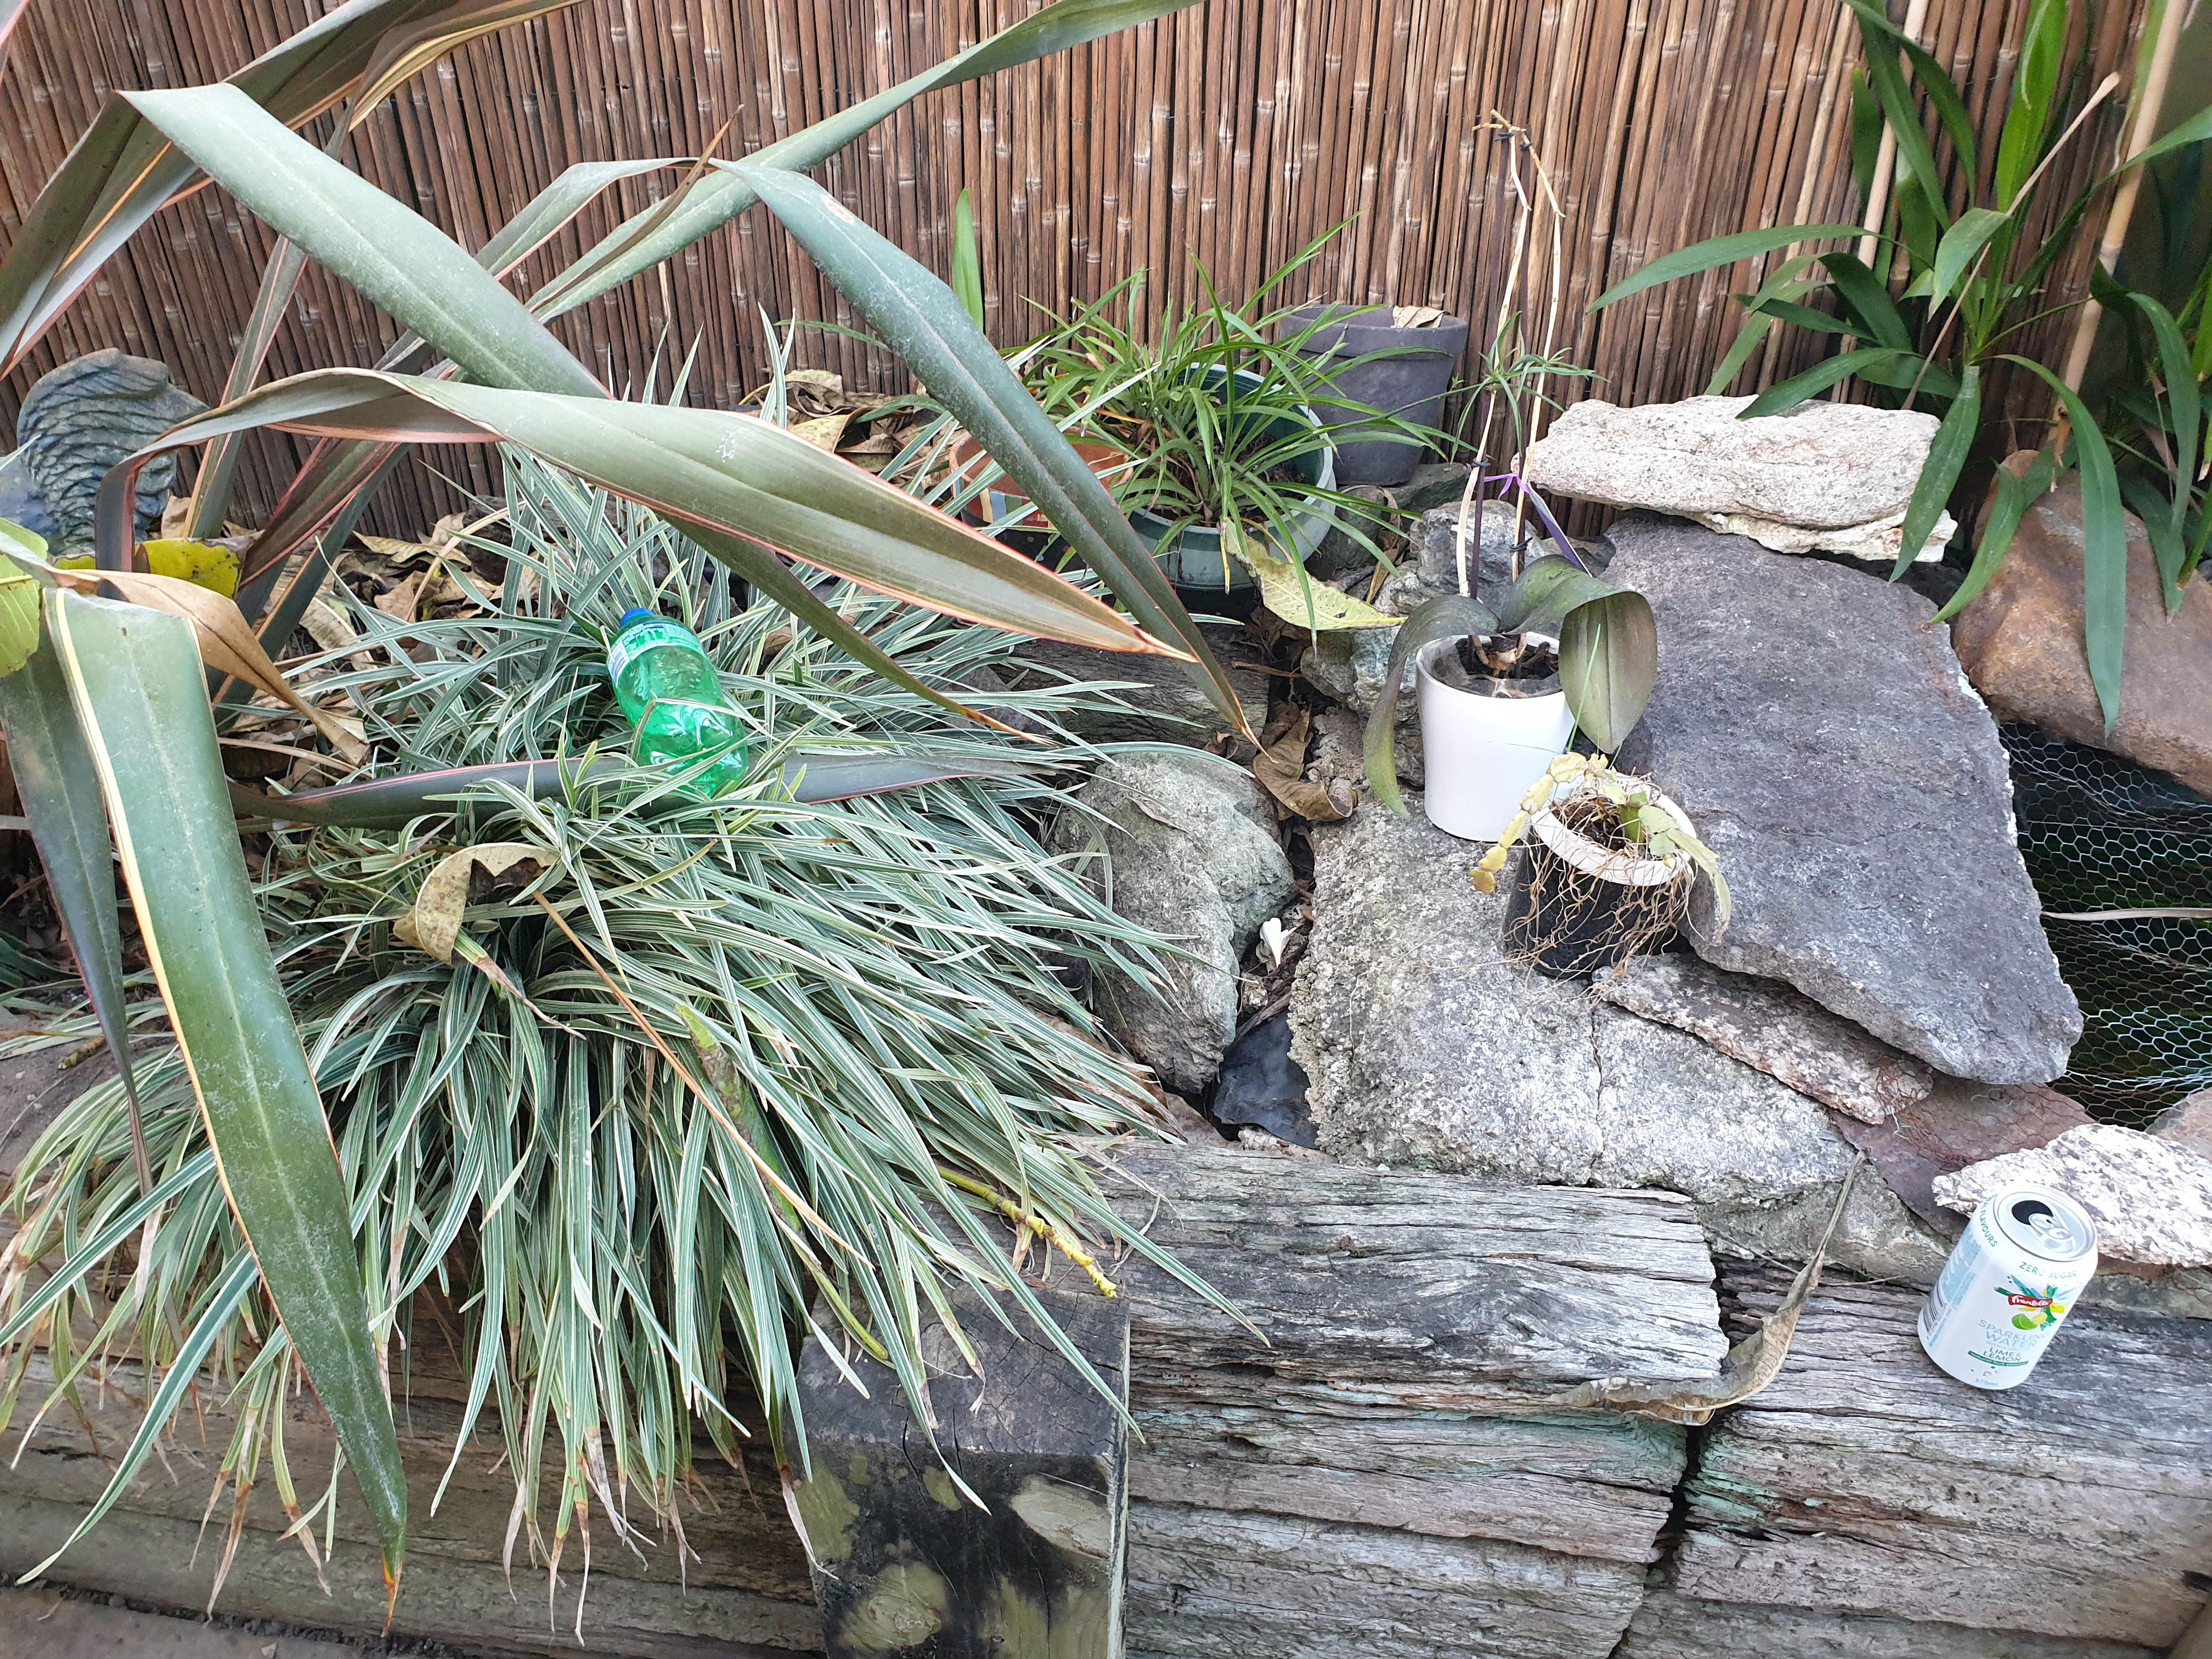Plastic Bottle: (1916, 1185, 2099, 1387), (604, 608, 745, 796)
